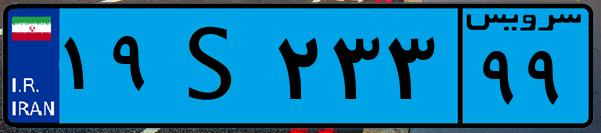1: (57, 26, 110, 100)
2: (270, 28, 330, 110)
3: (385, 28, 445, 110), (330, 28, 385, 110)
9: (475, 38, 525, 113), (525, 38, 570, 115), (110, 28, 158, 98)
S: (158, 12, 270, 120)
